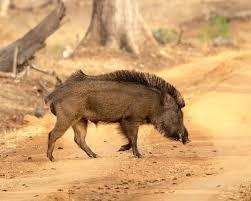wildboar: (41, 65, 193, 163)
